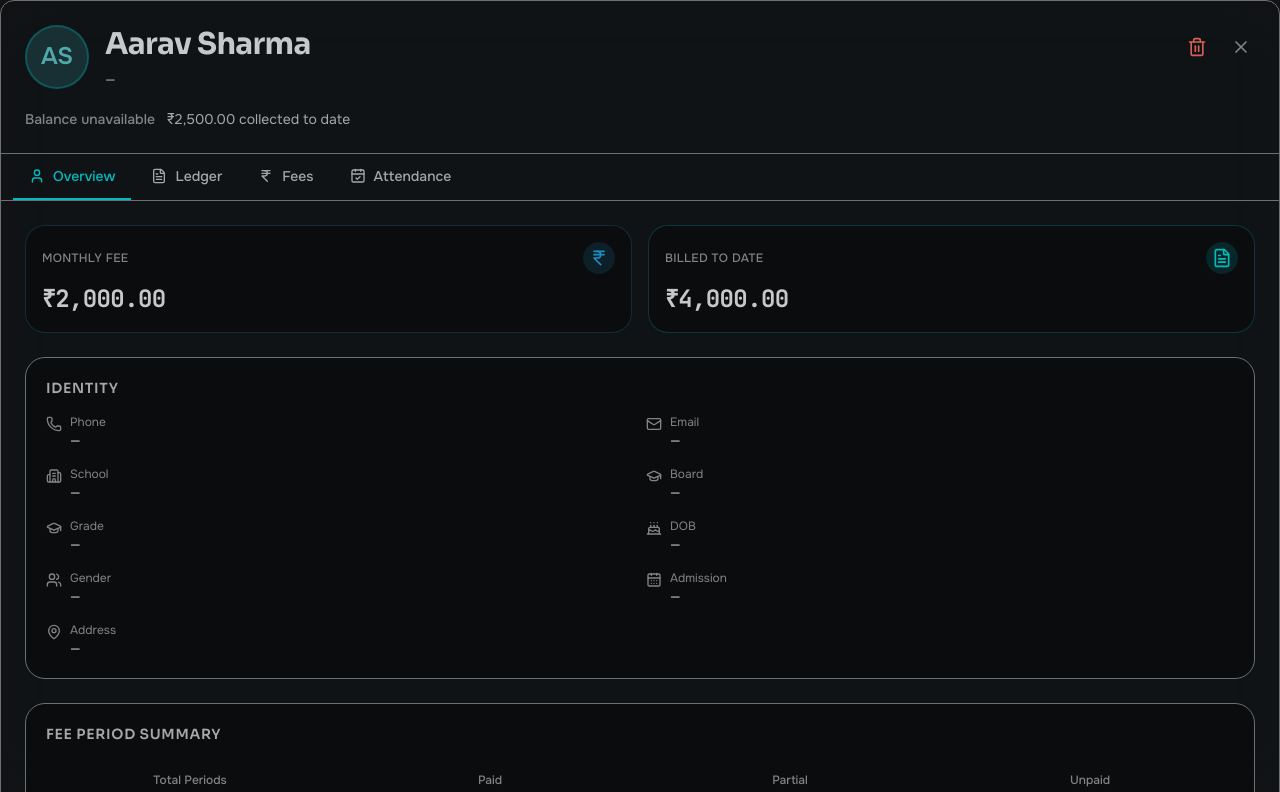
Scenario: every drawer tab renders content, and points at its own panel (13 §10.4) › tells the truth on the Attendance tab instead of drawing a calendar
Expected: the heading "Aarav Sharma" is shown, [105,25,311,65]
Click the tab "Attendance" at (400, 177), box [334,154,467,200]
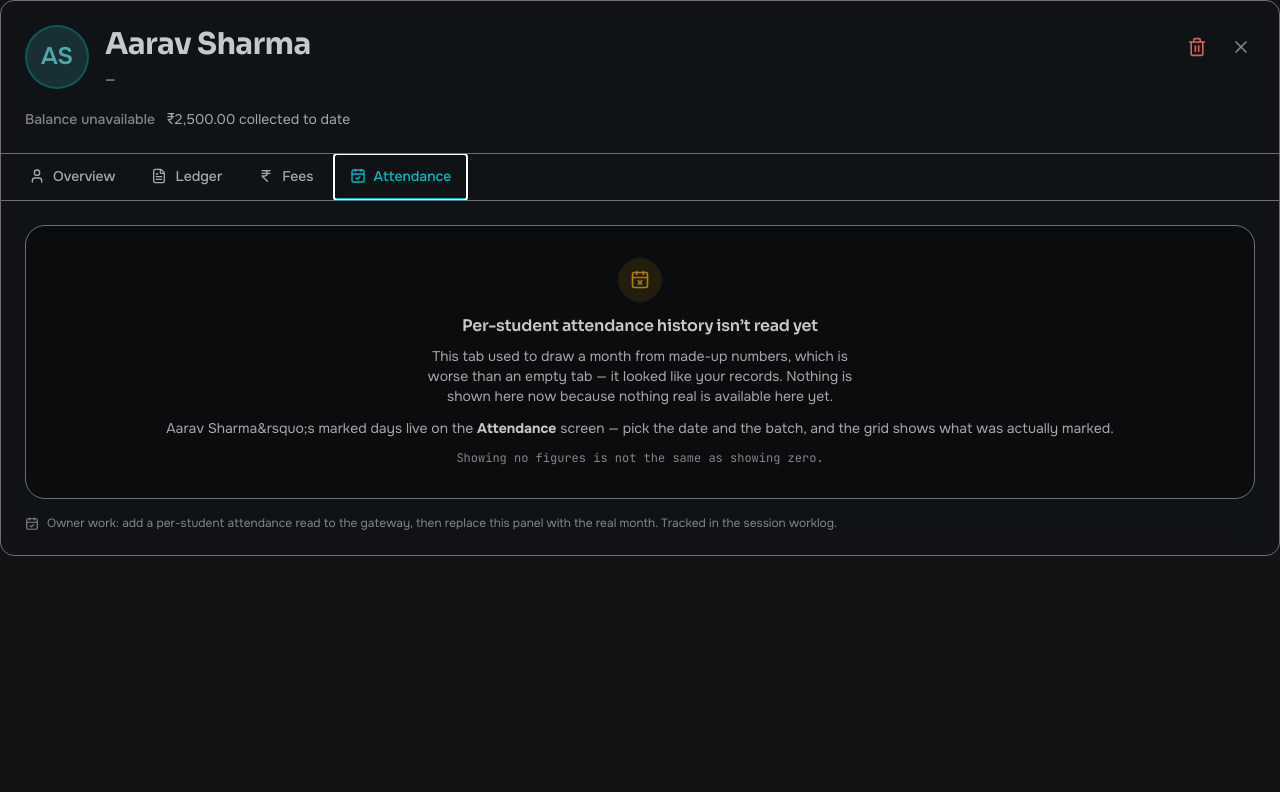
Result: the heading "Per-student attendance history isn’t read yet" is shown at [462,315,818,336]
Result: the text "Attendance" is shown at [477,419,556,437]
